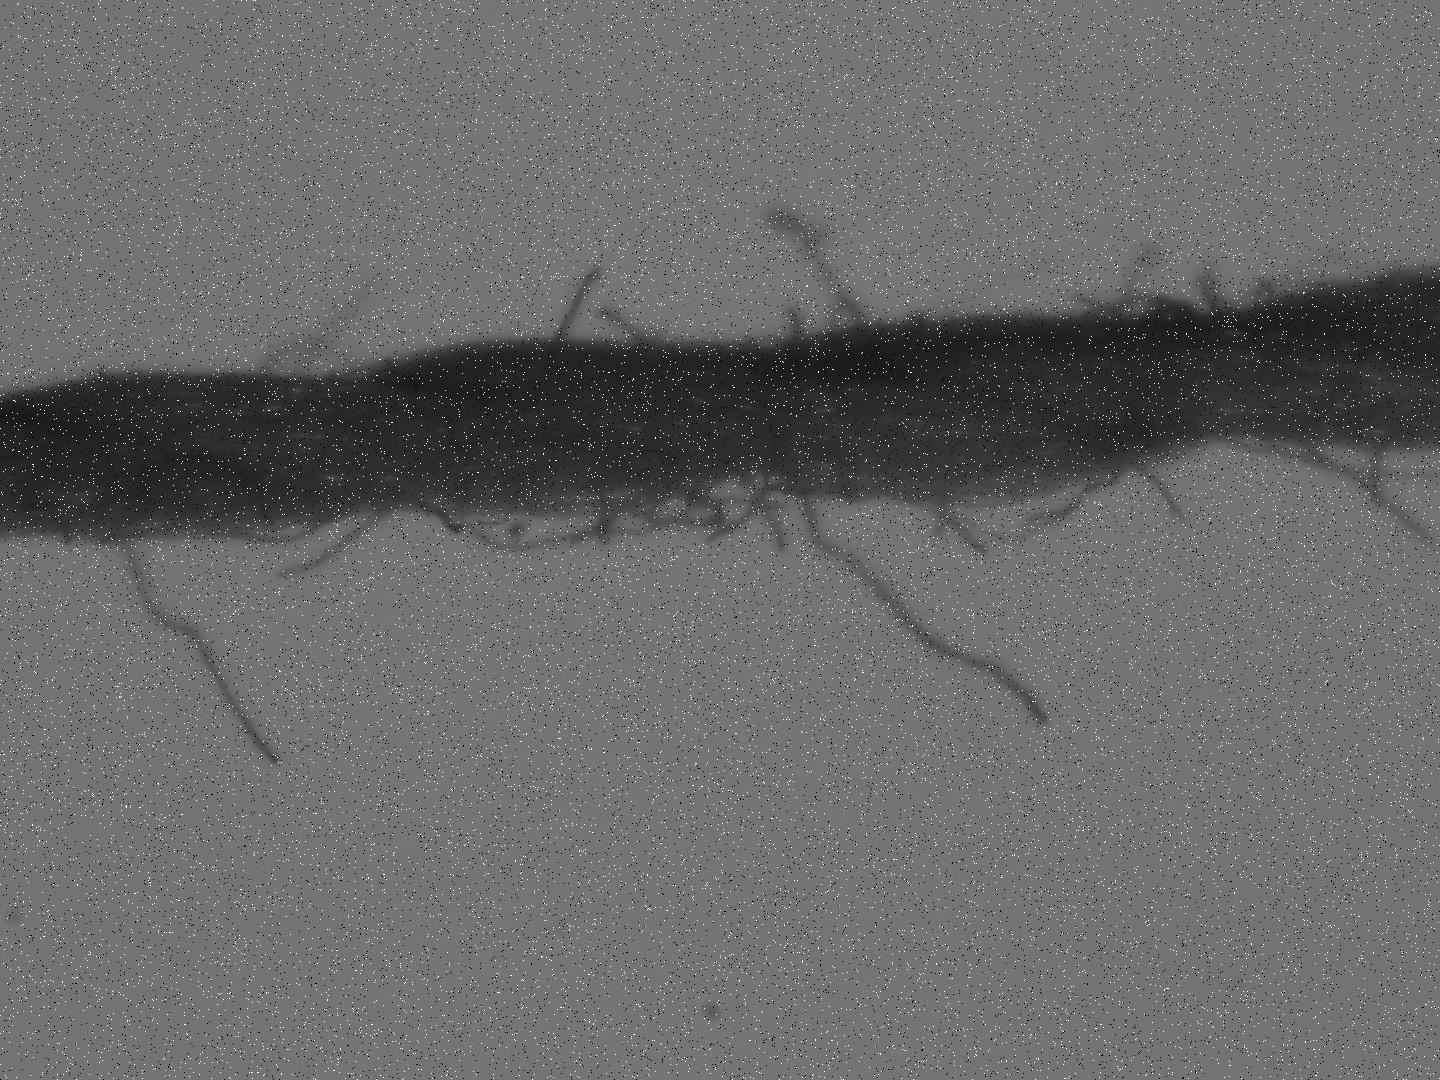loop_fiber: (1223, 434, 1440, 559), (886, 464, 1126, 555), (410, 489, 730, 552), (1250, 253, 1392, 305), (134, 517, 325, 545), (255, 338, 366, 381), (1064, 289, 1198, 319), (827, 297, 869, 335)
protruding_fiber: (801, 486, 1051, 729), (112, 539, 289, 769), (770, 210, 871, 321), (271, 501, 404, 584), (300, 270, 383, 379), (698, 481, 783, 547), (548, 259, 607, 343), (1127, 458, 1197, 526), (739, 470, 789, 557), (1120, 239, 1167, 321), (596, 304, 657, 347), (1209, 255, 1235, 312), (779, 299, 806, 349), (1196, 270, 1215, 313)
